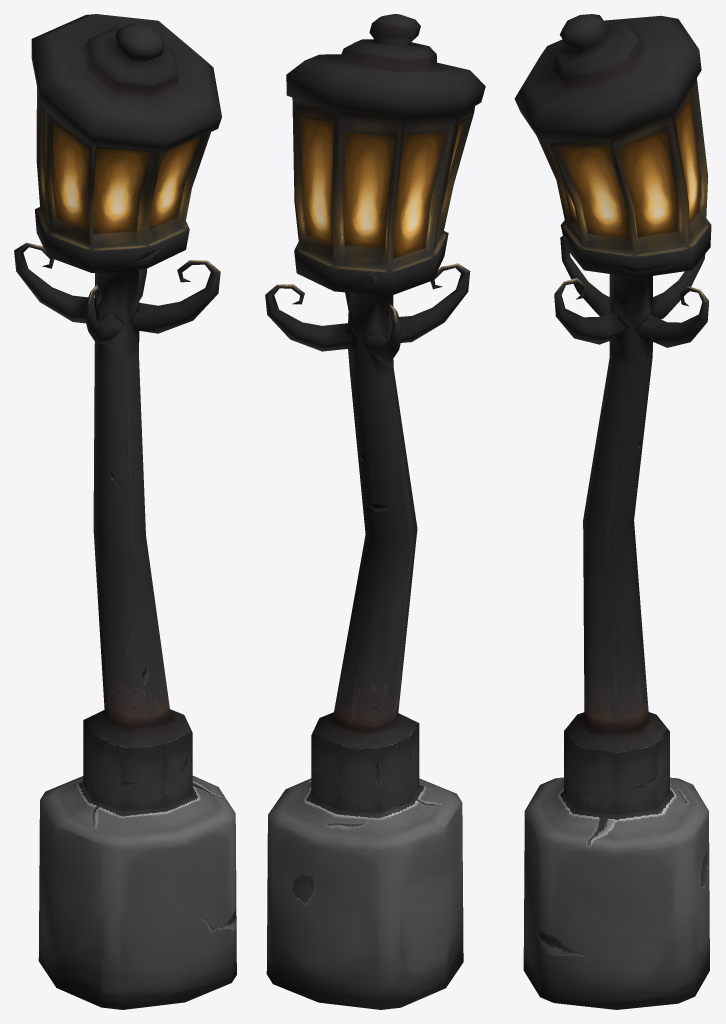
File: hand_painted_lamp.glb
3 renders of one model, left to right at view 1: azimuth 30°, elevation 25°; view 2: azimuth 150°, elevation 25°; view 3: azimuth 270°, elevation 25°, orthographic.
Visible parts, largest first — view 1: Cube (×2); view 2: Cube (×2); view 3: Cube (×2).
Boxes of the visible parts, x1=… form: Cube (×2): x1=14, y1=14, x2=236, y2=1009; Cube (×2): x1=265, y1=14, x2=485, y2=1009; Cube (×2): x1=514, y1=14, x2=711, y2=1009.
Size of what is drawn, in the model's own units: 0.4564 by 2.28 by 0.4315.
2 materials, 2 textured.
